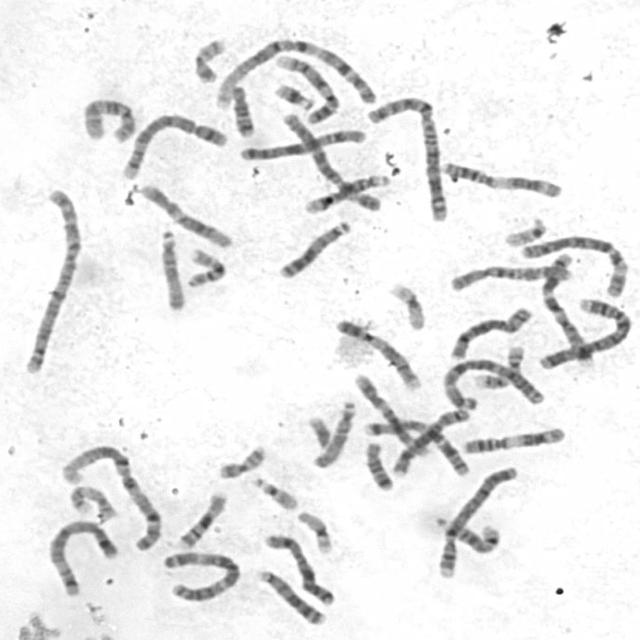A1: (213, 34, 378, 108), (58, 442, 165, 552)
A2: (17, 184, 83, 376), (366, 92, 452, 224)
A3: (438, 354, 546, 411), (159, 546, 244, 604)
B4: (432, 460, 521, 580), (534, 292, 636, 370)
B5: (117, 108, 230, 181), (45, 516, 121, 598)
C10: (446, 258, 576, 294), (78, 93, 138, 145)
C11: (437, 156, 566, 199), (457, 422, 569, 456)
C12: (350, 369, 432, 458), (135, 180, 236, 250)
C6: (278, 109, 384, 213), (515, 231, 631, 298)
C7: (538, 247, 598, 369), (367, 418, 471, 479)
C8: (393, 404, 477, 478), (446, 302, 536, 360)
C9: (330, 314, 425, 392), (271, 49, 339, 124)
D13: (274, 216, 355, 280), (252, 565, 328, 627)
D14: (302, 170, 392, 214), (429, 512, 503, 556)
D15: (308, 397, 359, 470), (154, 224, 188, 313)
E16: (173, 486, 230, 550), (182, 242, 230, 288)
E17: (472, 342, 527, 390), (65, 480, 120, 521)
E18: (361, 438, 396, 492), (226, 81, 258, 138)
F19: (384, 278, 428, 331), (292, 506, 335, 554)
F20: (214, 441, 269, 480), (190, 34, 228, 84)
G21: (270, 78, 318, 111), (304, 412, 334, 451)
G22: (247, 472, 301, 511), (500, 213, 550, 248)
X: (261, 529, 338, 607), (236, 124, 367, 162)
